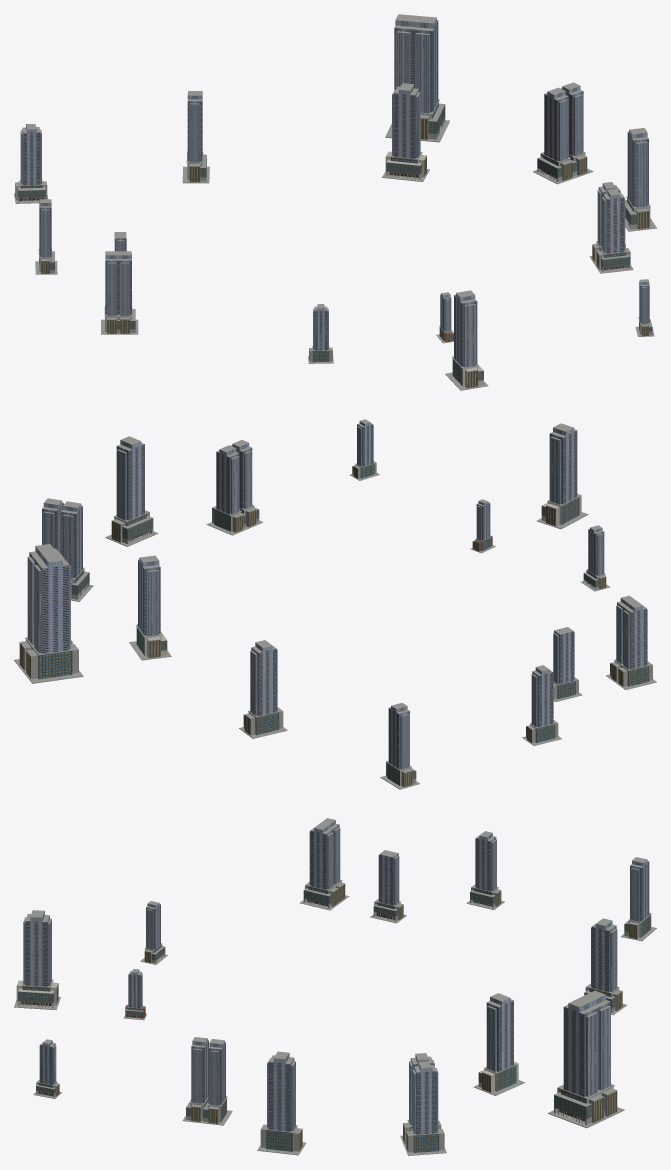
The model's file is Canada_track_building_city_02.dae.
3 views of the same model, one above another, from view 1: azimuth 30°, elevation 25°; view 2: azimuth 150°, elevation 25°; view 3: azimuth 270°, elevation 25° (orthographic). The views are drawn at different scales.
Parts seen in each view (by area): view 1: building_city_02_05, building_city_02_07, building_city_02_04, building_city_02_03, building_city_02_015, building_city_02_011, building_city_02_013, building_city_02_10, building_city_02_08, building_city_02_012, building_city_02_06, building_city_02_014 (+1 smaller); view 2: building_city_02_05, building_city_02_03, building_city_02_013, building_city_02_015, building_city_02_011, building_city_02_08, building_city_02_07, building_city_02_04, building_city_02_10, building_city_02_012, building_city_02_01, building_city_02_06 (+2 smaller); view 3: building_city_02_05, building_city_02_07, building_city_02_013, building_city_02_015, building_city_02_03, building_city_02_04, building_city_02_011, building_city_02_08, building_city_02_012, building_city_02_10, building_city_02_01, building_city_02_014 (+2 smaller).
Part boxes in pixels (x1,y1,x2,y2): building_city_02_05: [385, 14, 449, 142]; building_city_02_07: [533, 82, 593, 184]; building_city_02_04: [382, 83, 429, 181]; building_city_02_03: [589, 182, 633, 273]; building_city_02_015: [445, 290, 488, 390]; building_city_02_011: [101, 251, 138, 334]; building_city_02_013: [625, 128, 656, 231]; building_city_02_10: [14, 124, 47, 203]; building_city_02_08: [182, 91, 209, 183]; building_city_02_012: [35, 199, 57, 274]; building_city_02_06: [308, 304, 333, 363]; building_city_02_014: [635, 279, 654, 336]; building_city_02_05: [14, 544, 83, 683]; building_city_02_03: [206, 440, 263, 535]; building_city_02_013: [105, 436, 158, 546]; building_city_02_015: [537, 423, 588, 529]; building_city_02_011: [606, 595, 656, 689]; building_city_02_08: [239, 640, 287, 738]; building_city_02_07: [42, 498, 93, 601]; building_city_02_04: [129, 555, 171, 660]; building_city_02_10: [380, 703, 419, 789]; building_city_02_012: [522, 665, 561, 745]; building_city_02_01: [553, 627, 582, 701]; building_city_02_06: [581, 525, 610, 591]; building_city_02_05: [548, 990, 624, 1128]; building_city_02_07: [400, 1053, 446, 1155]; building_city_02_013: [257, 1051, 306, 1155]; building_city_02_015: [14, 910, 60, 1010]; building_city_02_03: [182, 1037, 232, 1125]; building_city_02_04: [474, 993, 525, 1095]; building_city_02_011: [300, 818, 349, 910]; building_city_02_08: [584, 918, 626, 1015]; building_city_02_012: [466, 831, 504, 909]; building_city_02_10: [621, 857, 656, 941]; building_city_02_01: [370, 850, 406, 923]; building_city_02_014: [33, 1039, 61, 1098].
Bounding box in the file's own units: 94.2 × 95.95 × 18.54.
5 materials, 5 textured.
